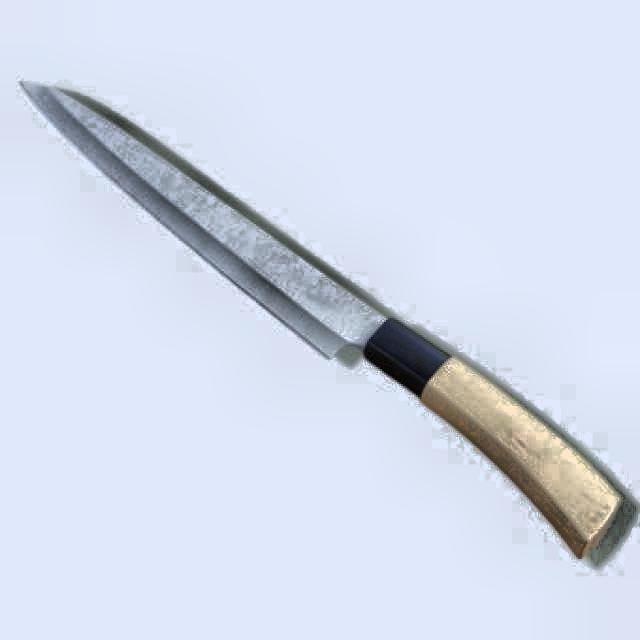knife: (14, 76, 620, 567)
